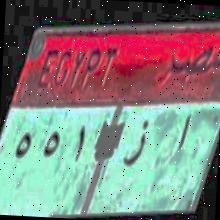1: (70, 120, 90, 170)
5: (37, 123, 62, 180), (12, 126, 34, 170)
alif: (170, 104, 196, 166)
zay: (122, 115, 151, 179)
